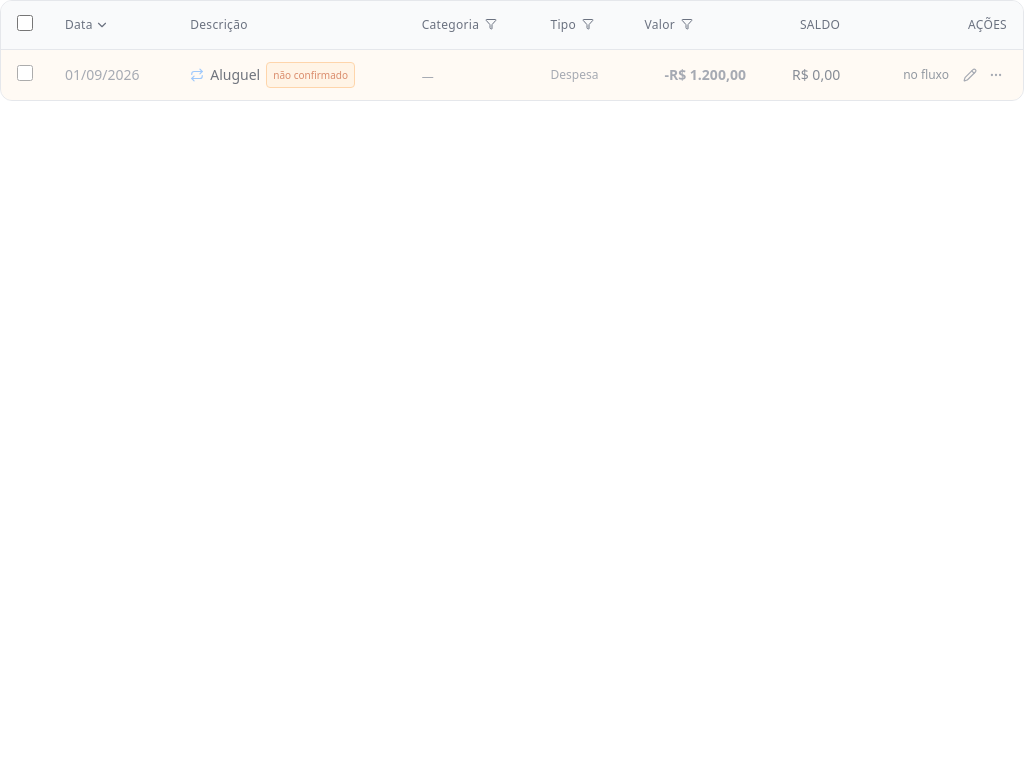
Test: diálogo de cancelar recorrência › conta ao usuário quantas linhas saíram
Click the button named "Mais ações": (996, 75) [985,64,1007,86]
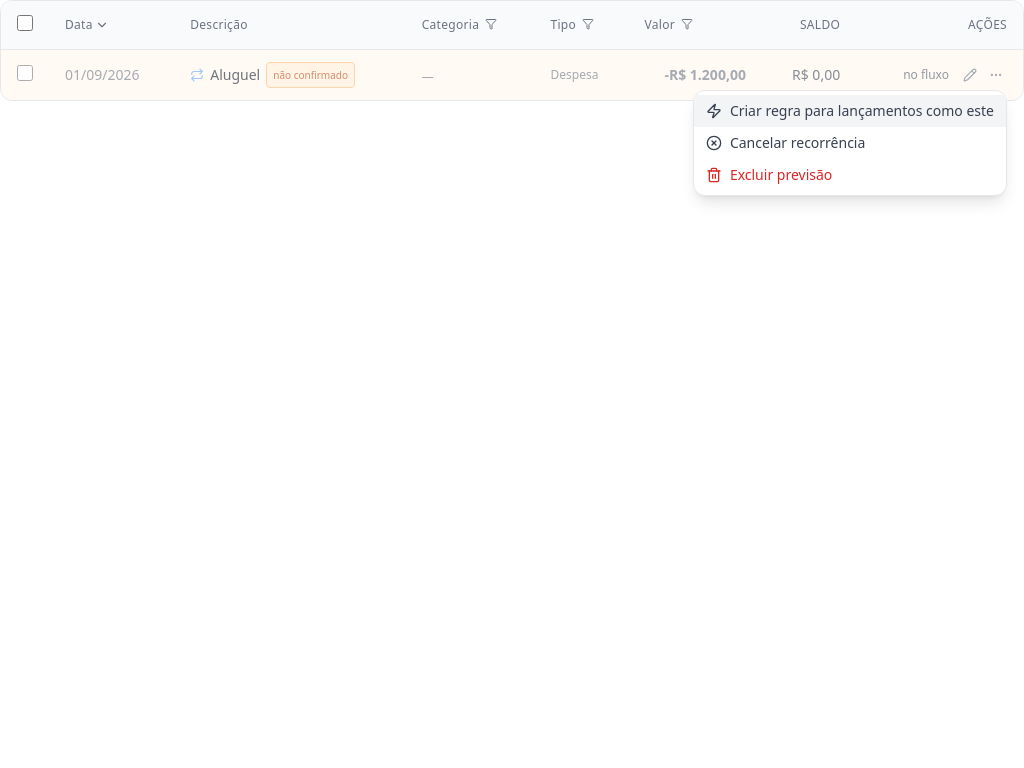
Click the menu item "Cancelar recorrência": (850, 143) [694,127,1006,159]
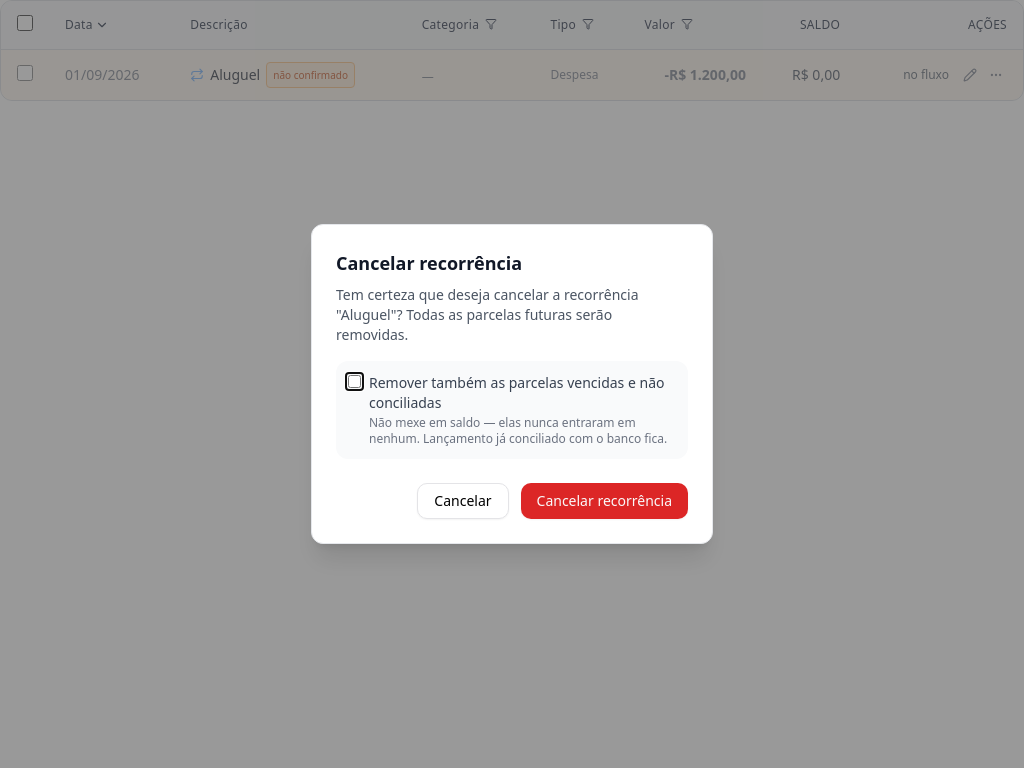
Click the checkbox labelled "vencidas e não conciliadas": (354, 382) [348,375,361,388]
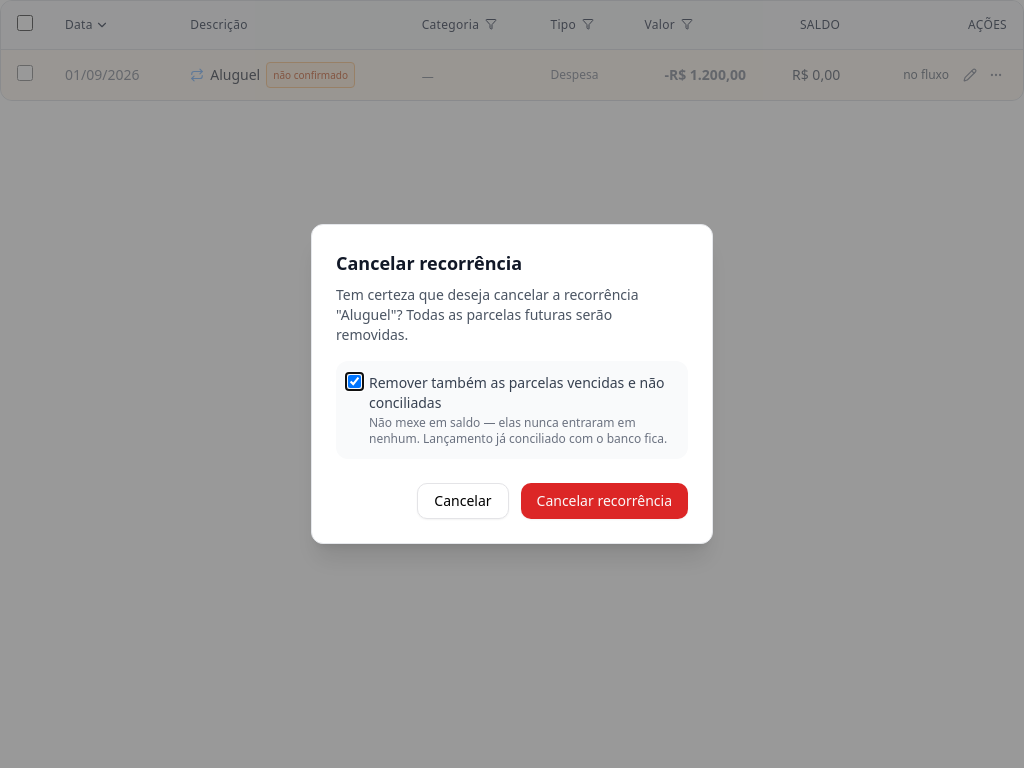
Click the button "Cancelar recorrência": (604, 501) [520,483,688,519]
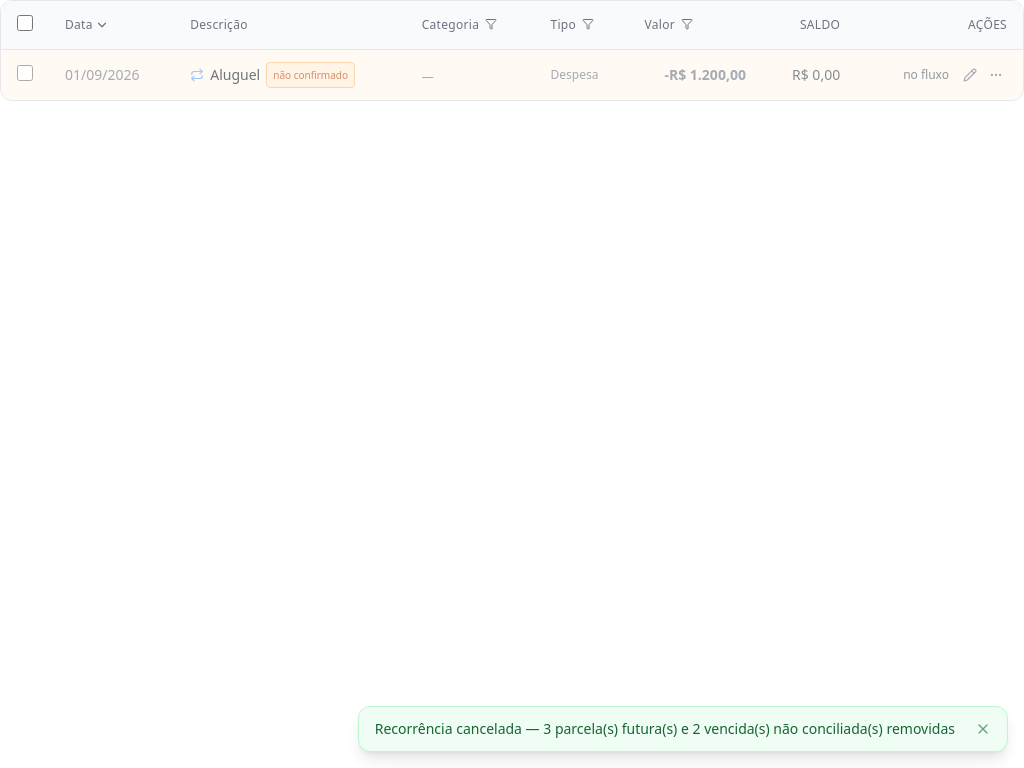
Check: the text "3 parcela(s) futura(s) e 2 vencida(s)" is shown, box [375,719,955,738]
